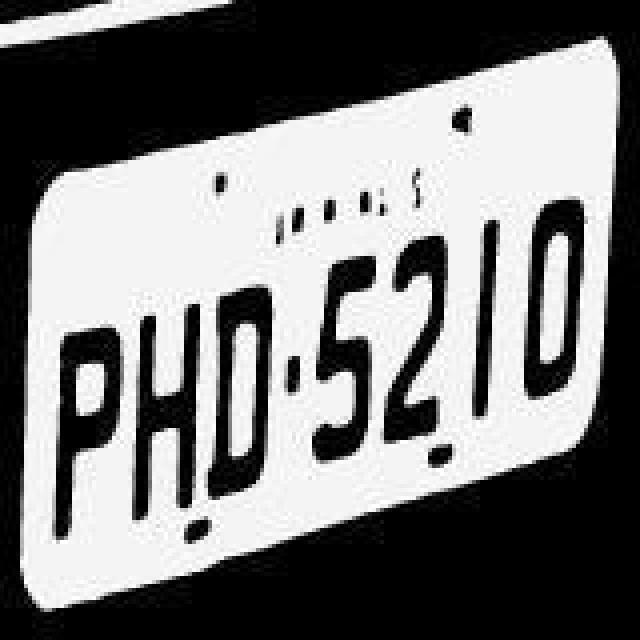1: (466, 196, 510, 428)
2: (384, 230, 448, 442)
5: (302, 254, 378, 466)
D: (202, 278, 278, 498)
H: (130, 288, 206, 536)
O: (518, 182, 586, 418)
P: (50, 312, 126, 552)
